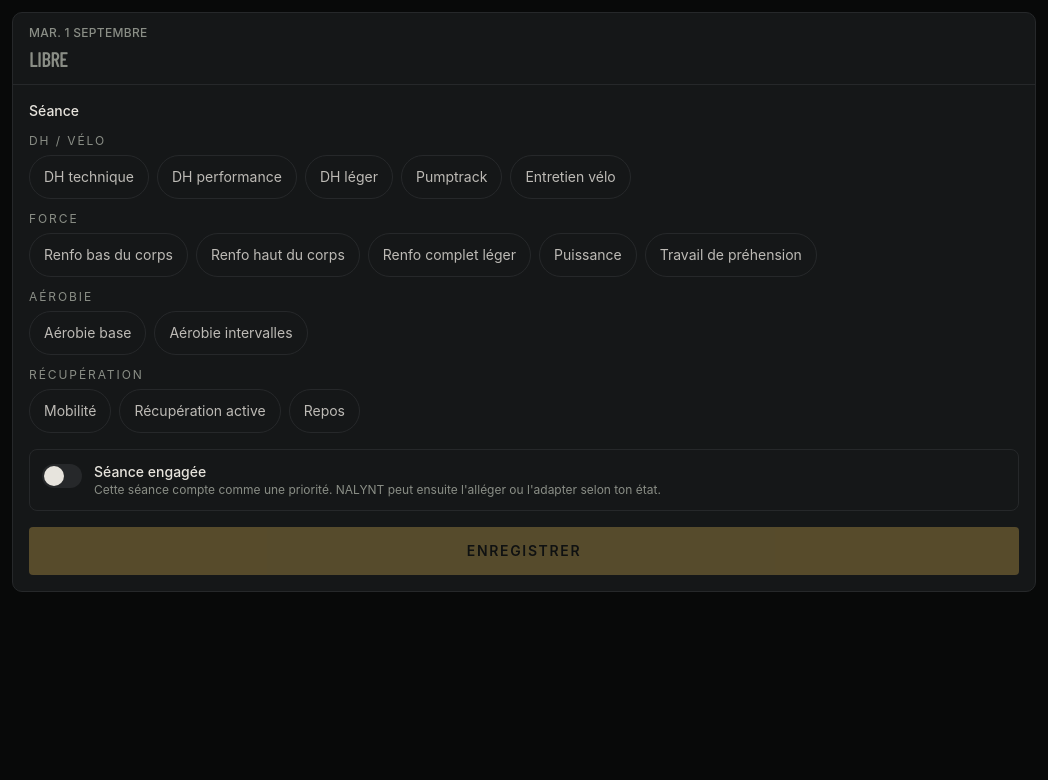
Test: PlanningDayCard — create/edit and day actions (J, K, L, M, N) › N: saving REST yields an explicit Repos persisted state
Click the button "Repos" at (324, 411), box [289, 389, 360, 433]
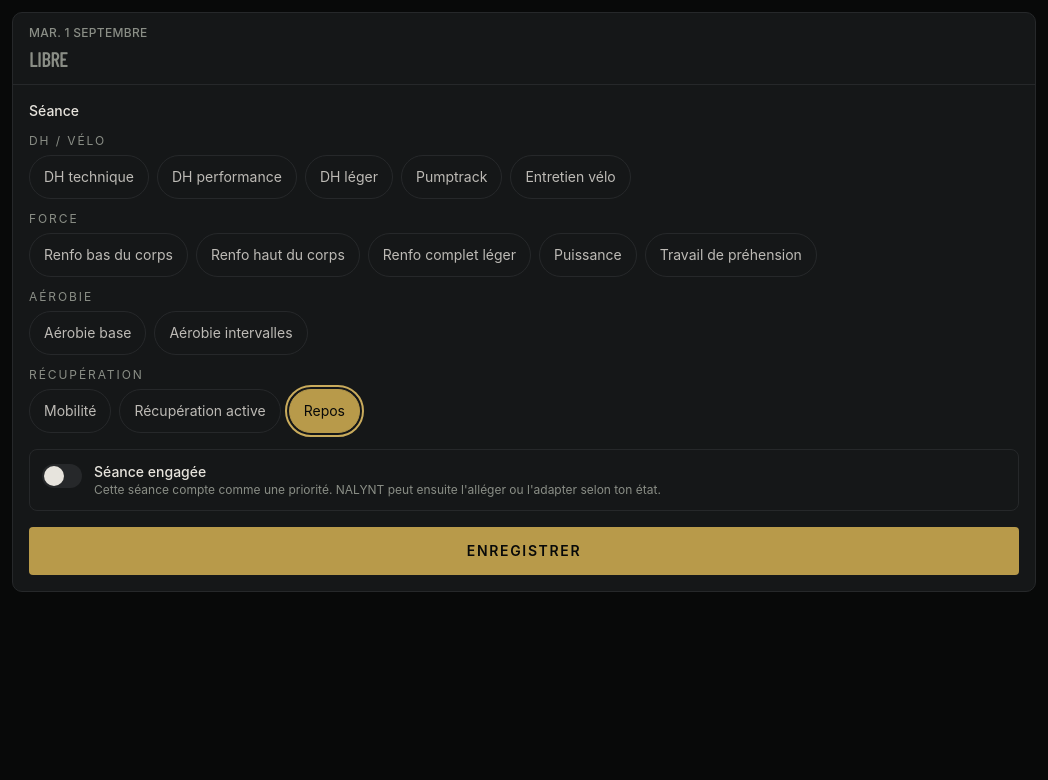
Click the button "Enregistrer" at (524, 551), box [29, 527, 1019, 575]
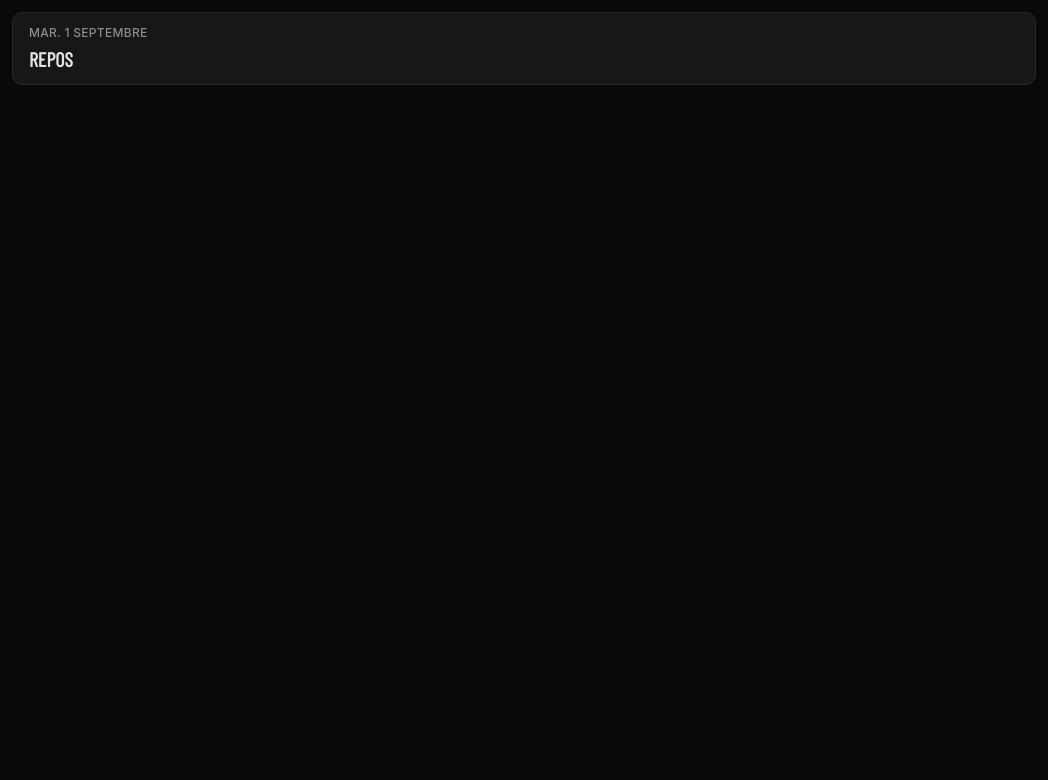
Now the text "Repos" is shown, box [29, 47, 73, 71]
